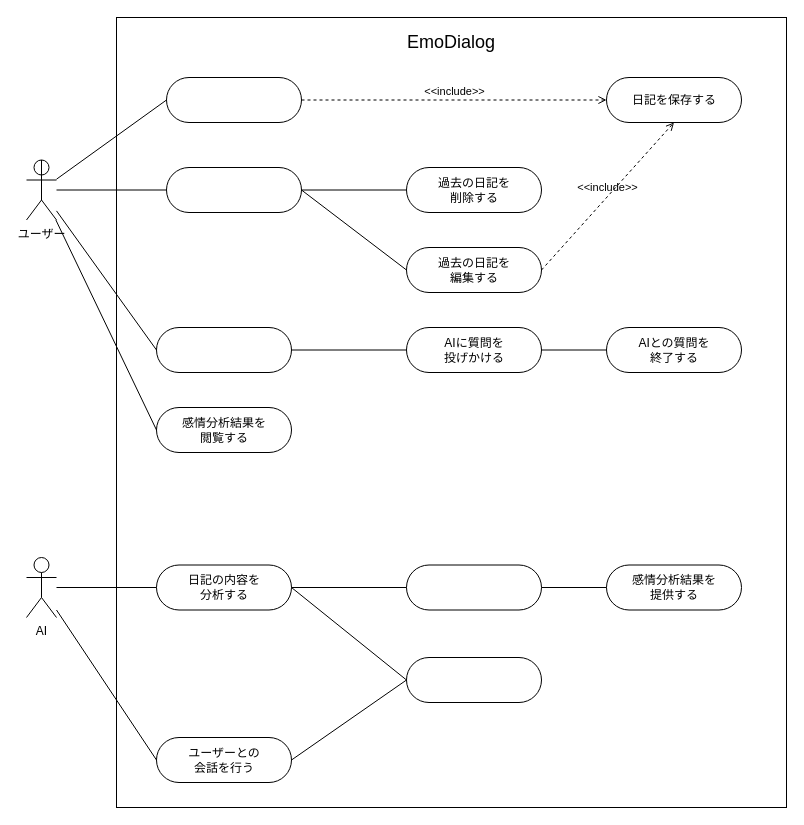
The diagram is 804 pixels wide and 825 high, and some of its shapes have lost their labels. The box of each missing label's shape, as (x1, y1, x2, y2) in pixels:
AIとの会話を 開始する: (156, 326, 292, 372)
感情分析を行う: (406, 564, 542, 610)
日記を記録する: (166, 76, 302, 122)
過去の日記を 閲覧する: (166, 166, 302, 212)
適切な応答を 生成する: (406, 656, 542, 702)
